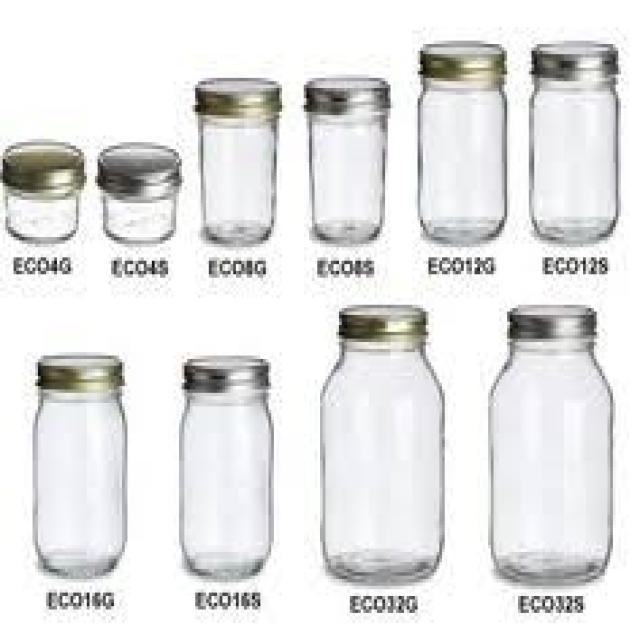glass: (488, 335, 610, 579), (320, 335, 442, 576), (30, 386, 122, 576), (177, 390, 269, 576), (526, 75, 616, 241), (415, 75, 504, 241), (304, 109, 385, 241), (195, 108, 271, 244), (0, 187, 76, 241), (101, 190, 174, 241)
metal: (95, 135, 179, 193), (0, 135, 81, 192), (418, 38, 507, 82), (301, 71, 388, 108), (529, 37, 616, 71), (193, 75, 280, 109), (33, 349, 120, 383), (182, 352, 266, 386), (504, 301, 594, 332), (334, 301, 423, 332)
